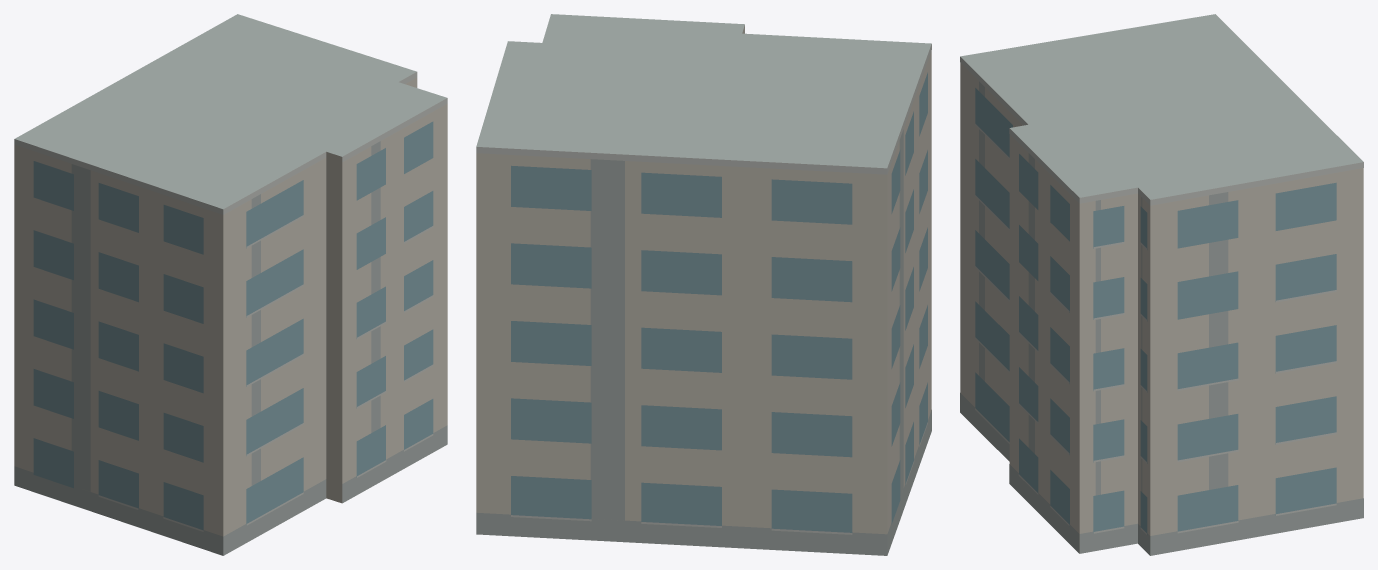
The model's file is survey-upis-32587675.glb.
3 renders of one model, left to right at view 1: azimuth 30°, elevation 25°; view 2: azimuth 150°, elevation 25°; view 3: azimuth 270°, elevation 25°, orthographic. The views are drawn at different scales.
Parts seen in each view (by area): view 1: survey-upis-32587675.tmp; view 2: survey-upis-32587675.tmp; view 3: survey-upis-32587675.tmp.
Part boxes in pixels (x1,y1,x2,y2): survey-upis-32587675.tmp: (14,14,447,555); survey-upis-32587675.tmp: (476,14,931,555); survey-upis-32587675.tmp: (960,14,1363,555).
Size of the model in its own units: 16.7 by 14.9 by 15.32.
